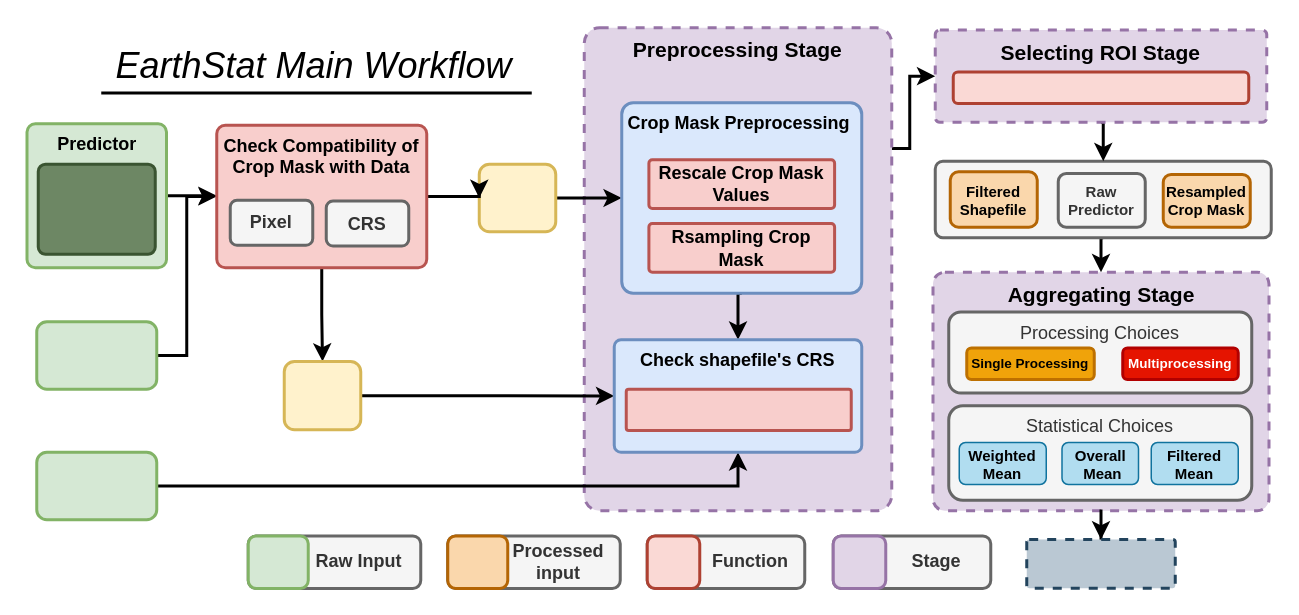
Some shapes in this 1299 by 615 pixel diagram are drawn without their labels. The centre of each missing label's shape, as x and y in pixels:
"Crop Mask" belongs at pixel 96 355.
"CSV" belongs at pixel 1100 563.
"Filter Shapefile's Geo-Objects" belongs at pixel 1100 87.
"NetCDF to GeoTIFF Converter" belongs at pixel 96 208.
"No" belongs at pixel 516 197.
"Reproject Shapefile" belongs at pixel 738 409.
"Shapefile" belongs at pixel 96 485.
"Yes" belongs at pixel 322 394.
